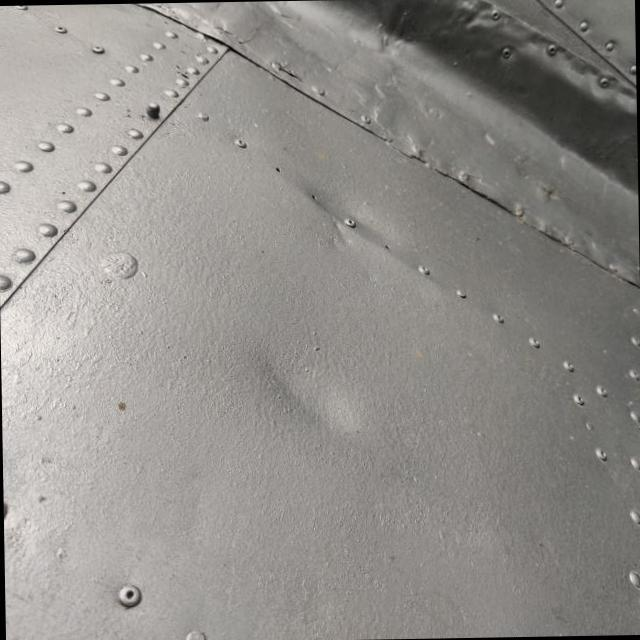dent: (245, 322, 361, 452)
